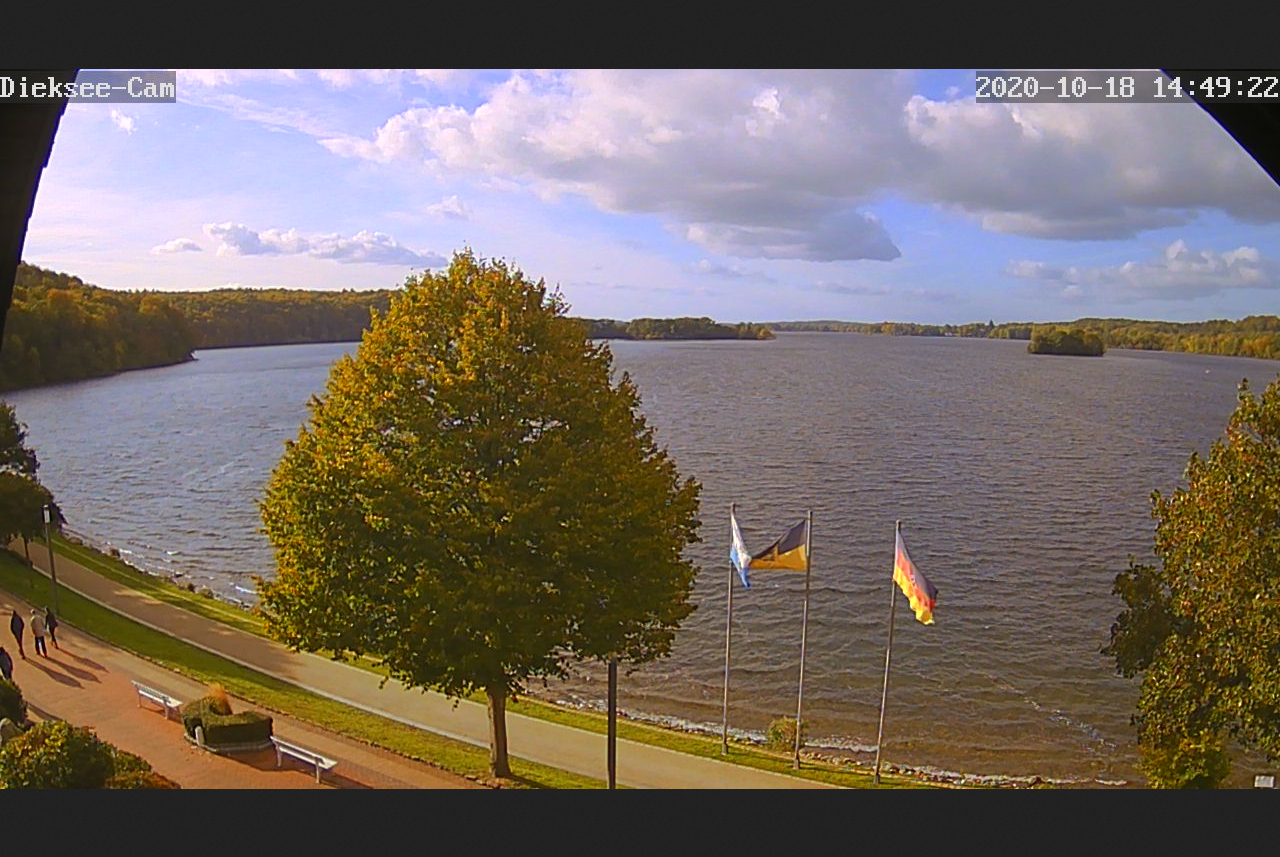maybe: (890, 520, 940, 633), (723, 507, 751, 584)
yes: (748, 505, 816, 577)
